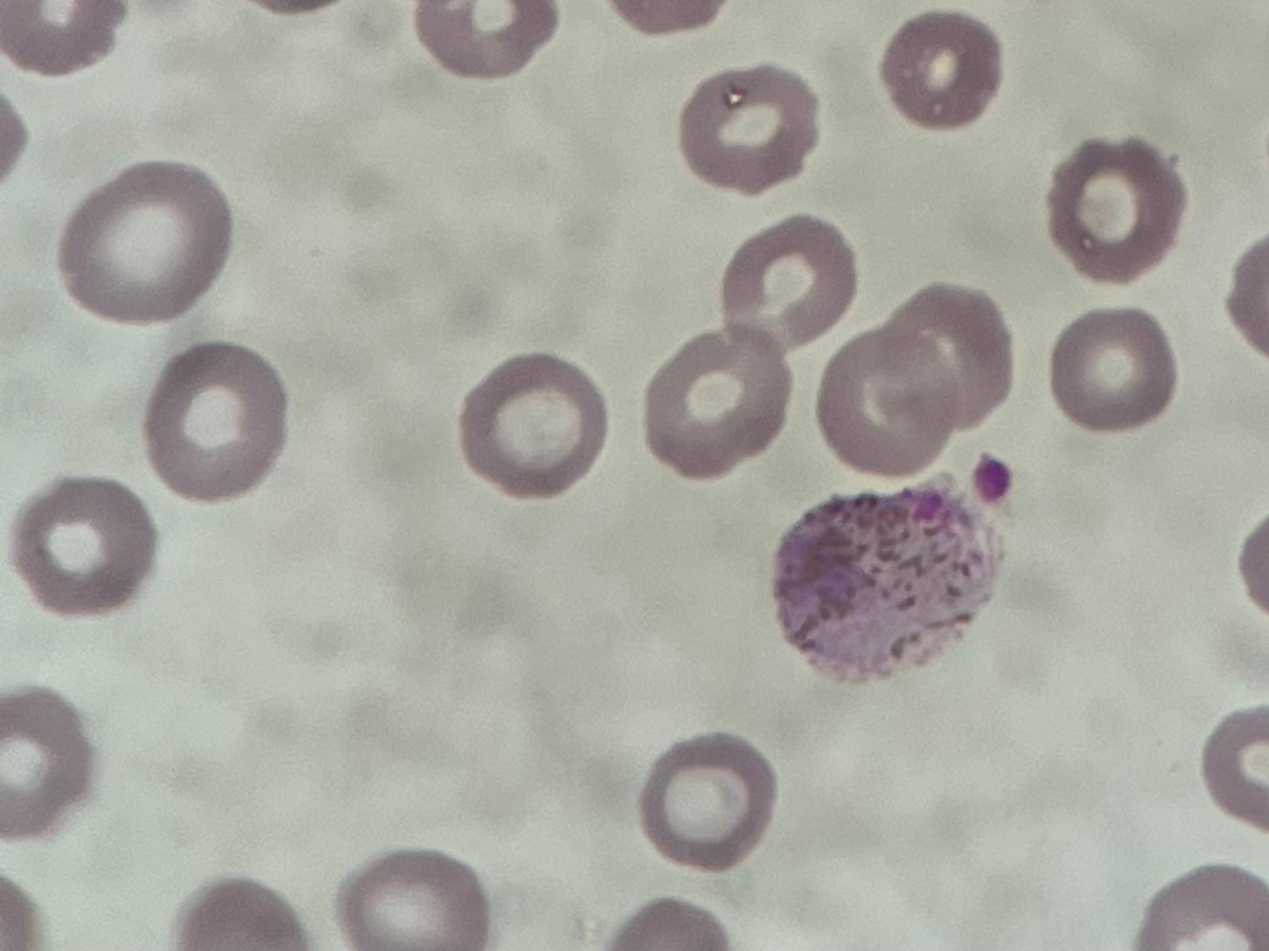Infected: (771, 481, 1002, 689)
Uninfected: (59, 161, 231, 326), (642, 332, 794, 482), (144, 344, 288, 500), (815, 327, 959, 475), (458, 355, 607, 498), (1044, 133, 1187, 281), (10, 477, 151, 617), (720, 216, 857, 352), (679, 67, 821, 196), (640, 734, 772, 871), (897, 287, 1018, 426), (1051, 311, 1179, 434), (342, 849, 486, 950), (877, 14, 999, 130), (2, 687, 95, 837)
